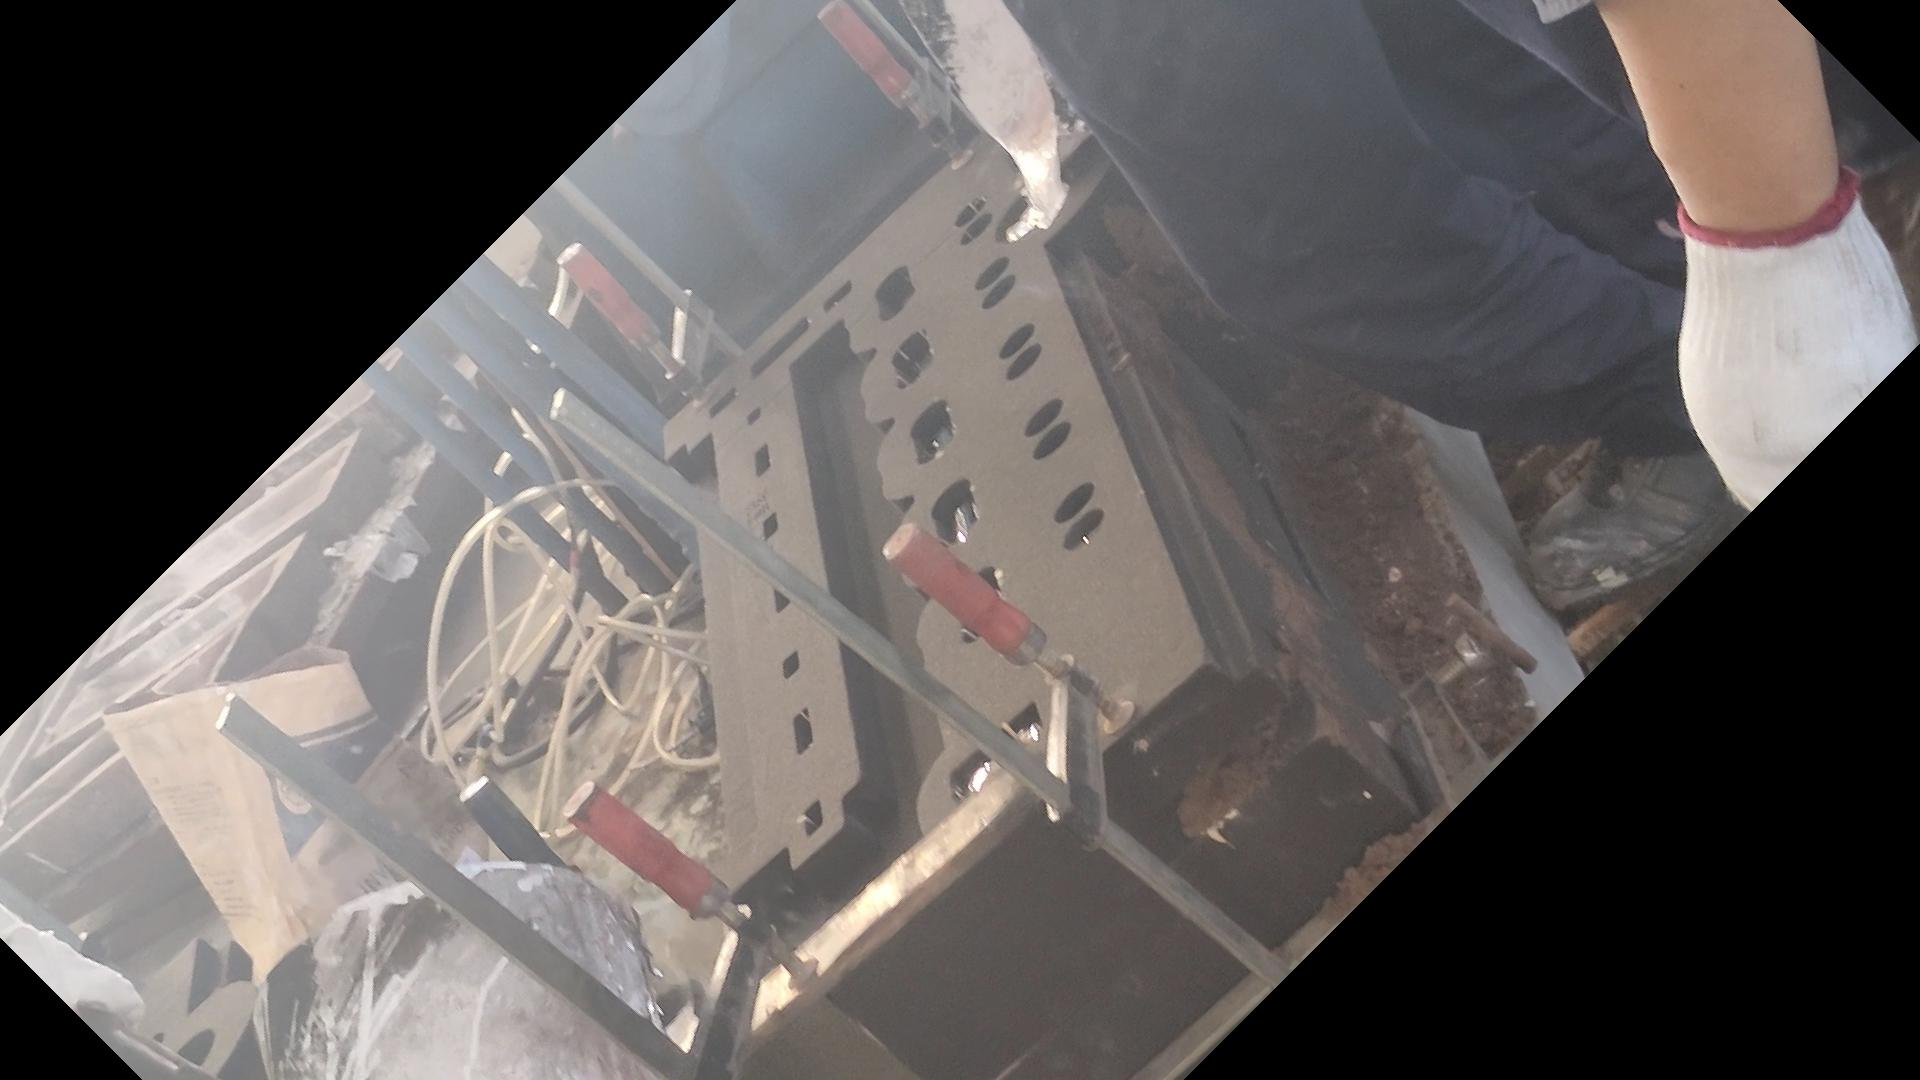pouring hole: (615, 977, 709, 1072), (990, 171, 1073, 245), (150, 1025, 215, 1075)
